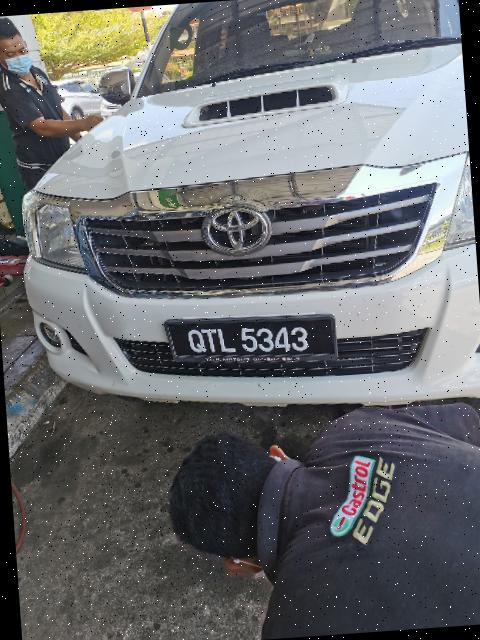License_Plate: (164, 309, 339, 374)
car: (6, 1, 480, 433)
